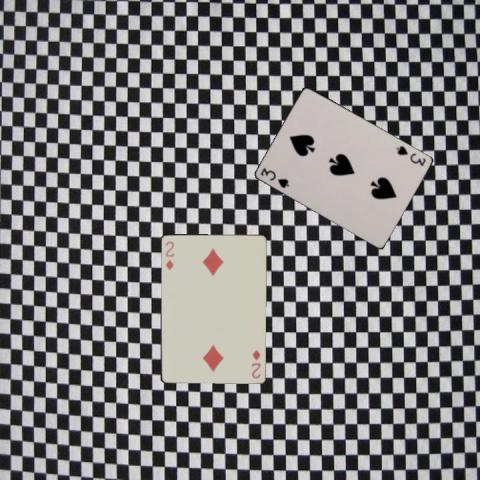2d: (162, 238, 175, 271), (249, 347, 261, 379)
3s: (394, 143, 427, 167), (258, 165, 291, 189)
